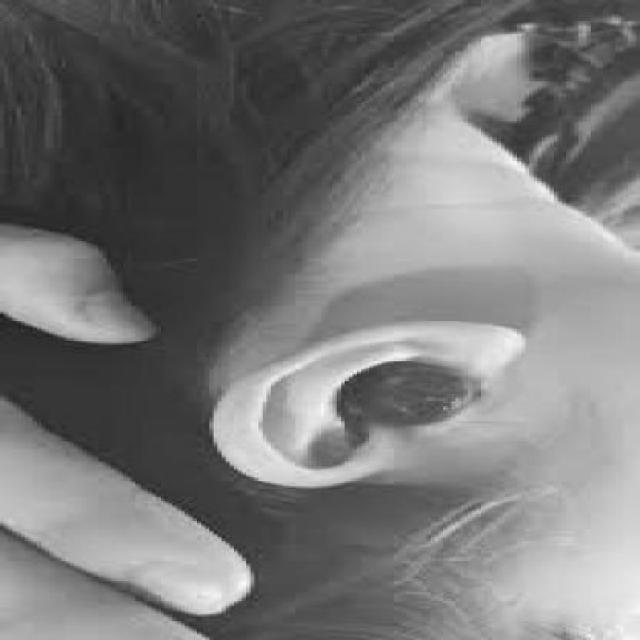earphone: (334, 343, 484, 456)
